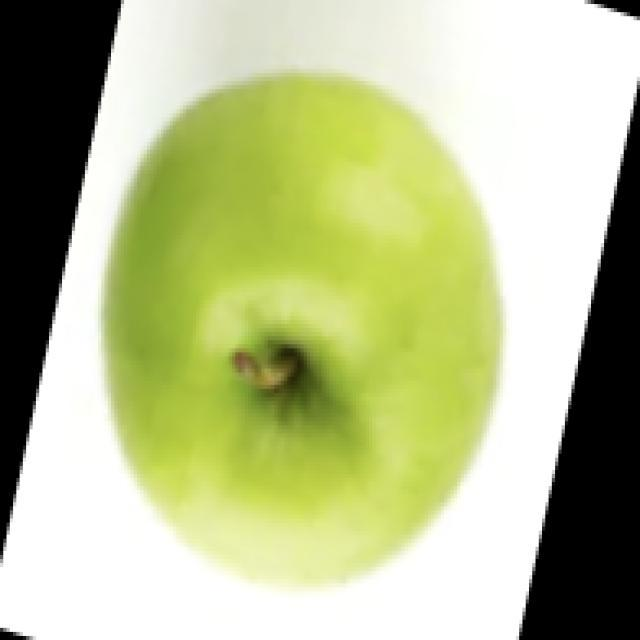Fresh Apple: (94, 68, 518, 587)
